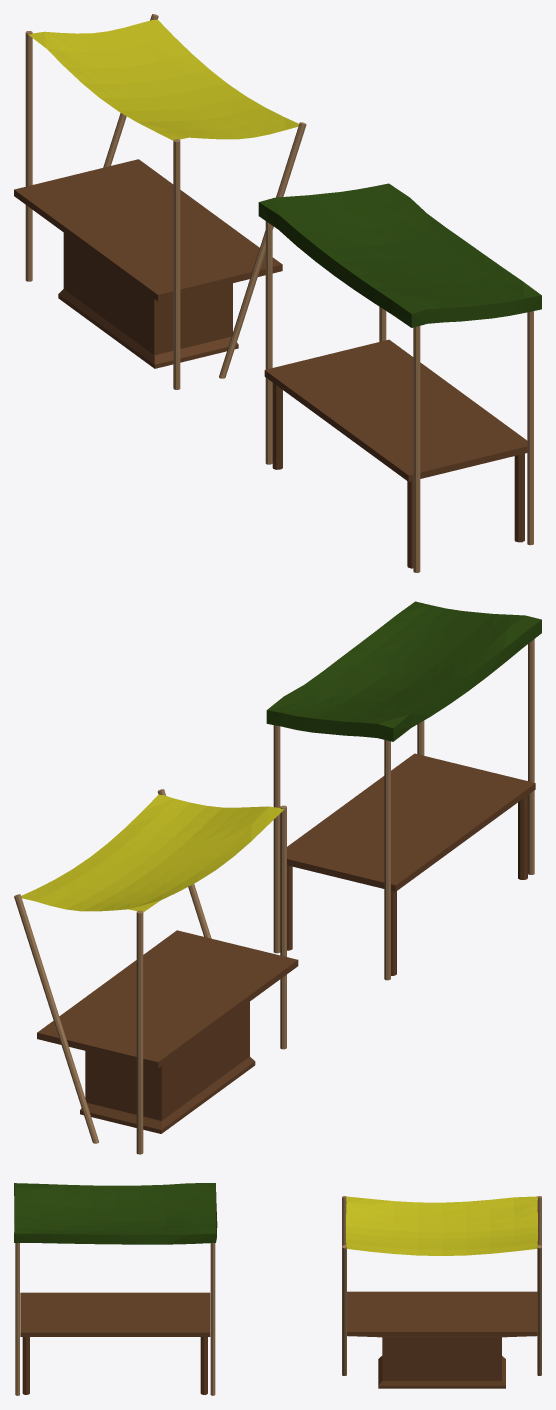
Rendered from Marktstände 2x 1.fbx.
3 renders of one model, top to bottom at view 1: azimuth 30°, elevation 25°; view 2: azimuth 150°, elevation 25°; view 3: azimuth 270°, elevation 25°, orthographic. The views are drawn at different scales.
Parts seen in each view (by area): view 1: Tisch3, Dach2, Dach5, Tisch2; view 2: Tisch3, Dach2, Dach5, Tisch2; view 3: Tisch3, Dach2, Dach5, Tisch2.
Boxes of the visible parts, x1,y1,x2,y2 form: Tisch3: (14, 159, 282, 368); Dach2: (258, 183, 541, 572); Dach5: (25, 14, 306, 389); Tisch2: (264, 339, 527, 568); Tisch3: (37, 930, 298, 1133); Dach2: (266, 601, 541, 980); Dach5: (14, 789, 286, 1154); Tisch2: (287, 753, 535, 975); Tisch3: (347, 1291, 537, 1388); Dach2: (14, 1183, 217, 1395); Dach5: (342, 1196, 541, 1375); Tisch2: (20, 1292, 210, 1394).
Size of the model in its own units: 469 by 803 by 2221.
